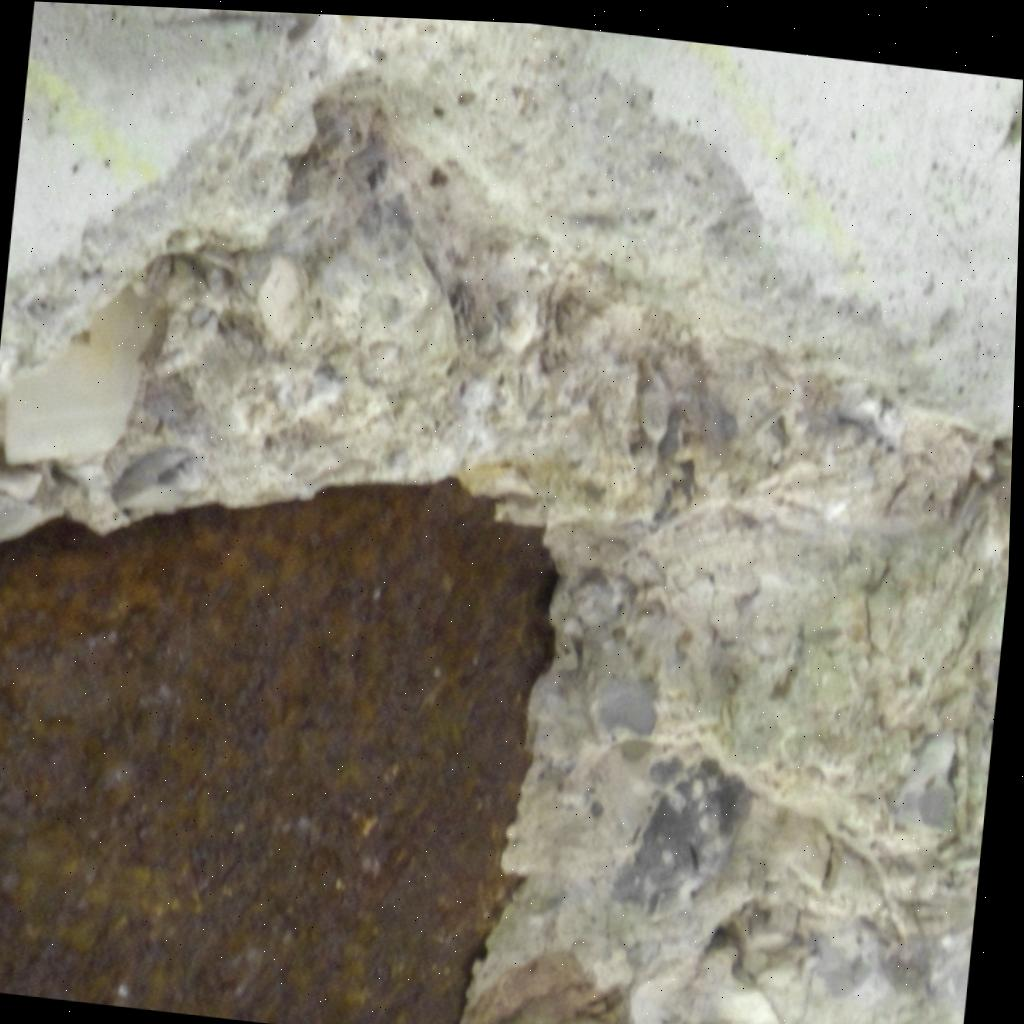exposed_rebar: (0, 483, 555, 1024)
spalling: (0, 14, 1012, 1024)
